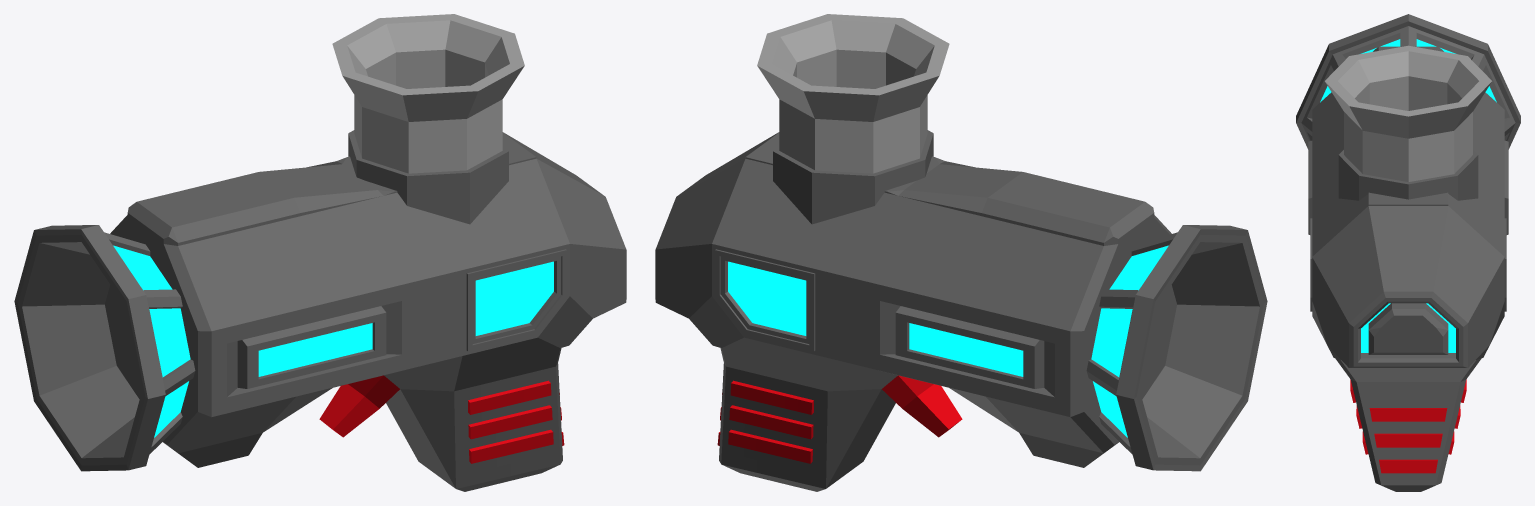
File: Bounce Gun.fbx
3 renders of one model, left to right at view 1: azimuth 30°, elevation 25°; view 2: azimuth 150°, elevation 25°; view 3: azimuth 270°, elevation 25°, orthographic. The views are drawn at different scales.
Visible parts, largest first — view 1: Cylinder.002; view 2: Cylinder.002; view 3: Cylinder.002.
Part boxes in pixels (box(x1,y1,x2,y2)): Cylinder.002: box(14, 14, 626, 491); Cylinder.002: box(655, 14, 1267, 491); Cylinder.002: box(1296, 14, 1520, 491).
Size of the model in its own units: 482 by 388 by 216.
